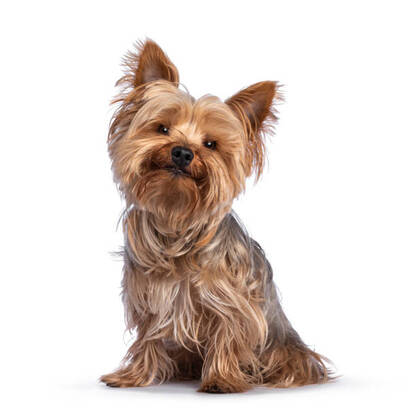yorkshire: (99, 34, 336, 397)
